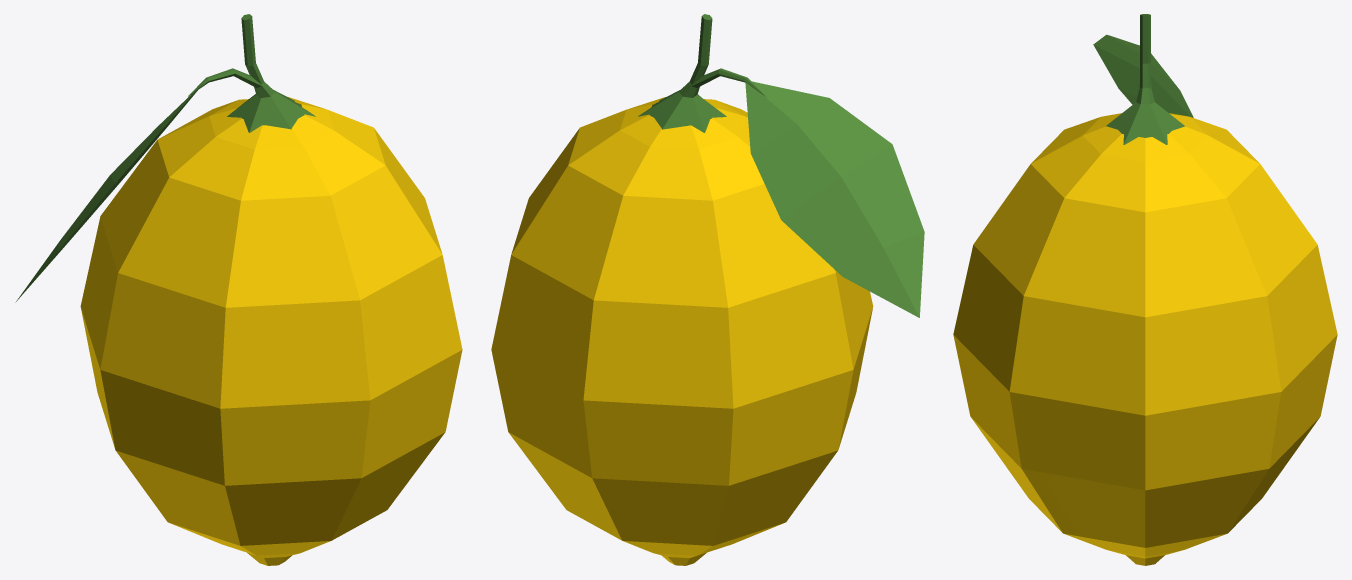
The model's file is lemon.obj.
The picture shows the model from 3 angles, left to right: view 1: azimuth 30°, elevation 25°; view 2: azimuth 150°, elevation 25°; view 3: azimuth 270°, elevation 25°; orthographic projection. The views are drawn at different scales.
Parts seen in each view (by area): view 1: lemon_0; view 2: lemon_0; view 3: lemon_0.
Part boxes in pixels (<box>): lemon_0: <box>15,14,462,565</box>; lemon_0: <box>491,14,924,565</box>; lemon_0: <box>953,14,1337,565</box>.
Size of the model in its own units: 0.5225 by 0.6566 by 0.4275.
1 material, 1 textured.
